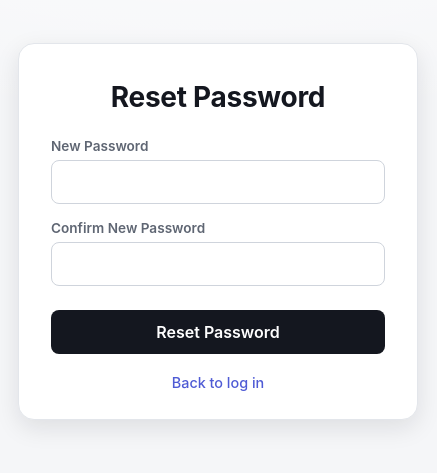
Test: an invalid or expired token shows the backend message
Type "newpass1" into the password field labelled "New Password".
click(218, 182); type("newpass1")  # box x1=51 y1=160 x2=385 y2=204
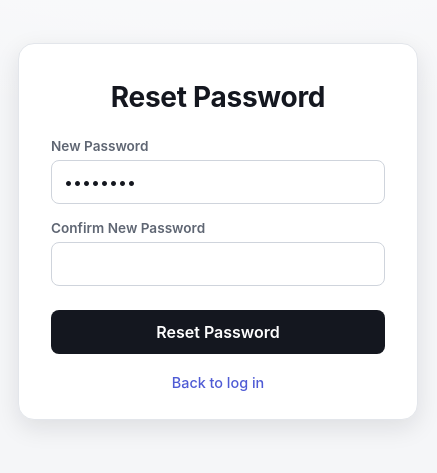
Type "newpass1" into the password field labelled "Confirm New Password".
click(218, 264); type("newpass1")  # box x1=51 y1=242 x2=385 y2=286
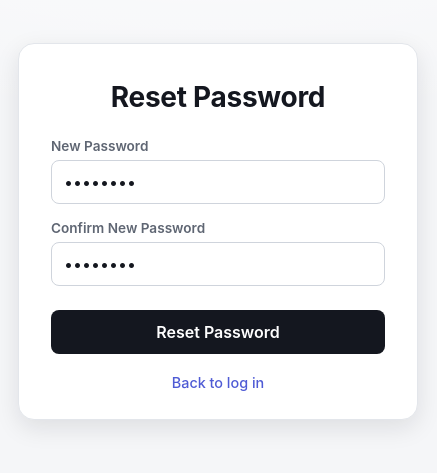
Click the button "Reset Password".
click(218, 332)  # box x1=51 y1=310 x2=385 y2=354
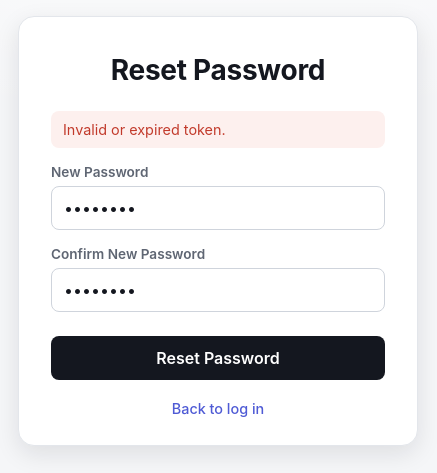
expect the message reads "Invalid or expired token.": met, box x1=63 y1=121 x2=226 y2=138
